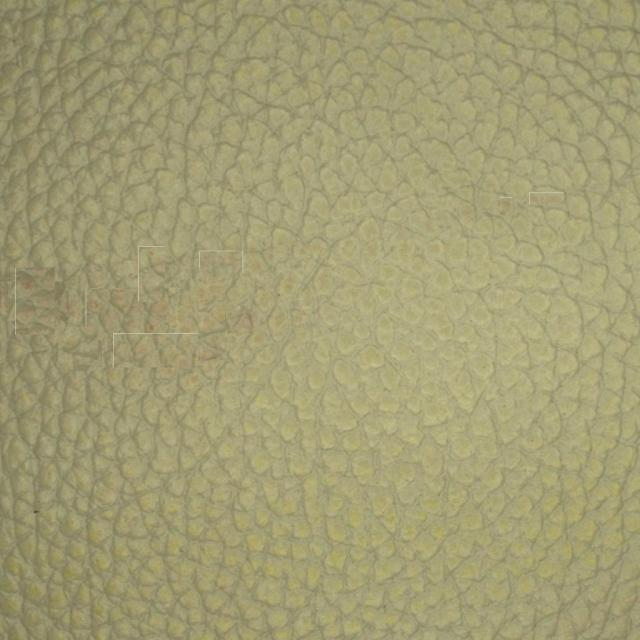Healed Injury: (16, 227, 316, 396)
